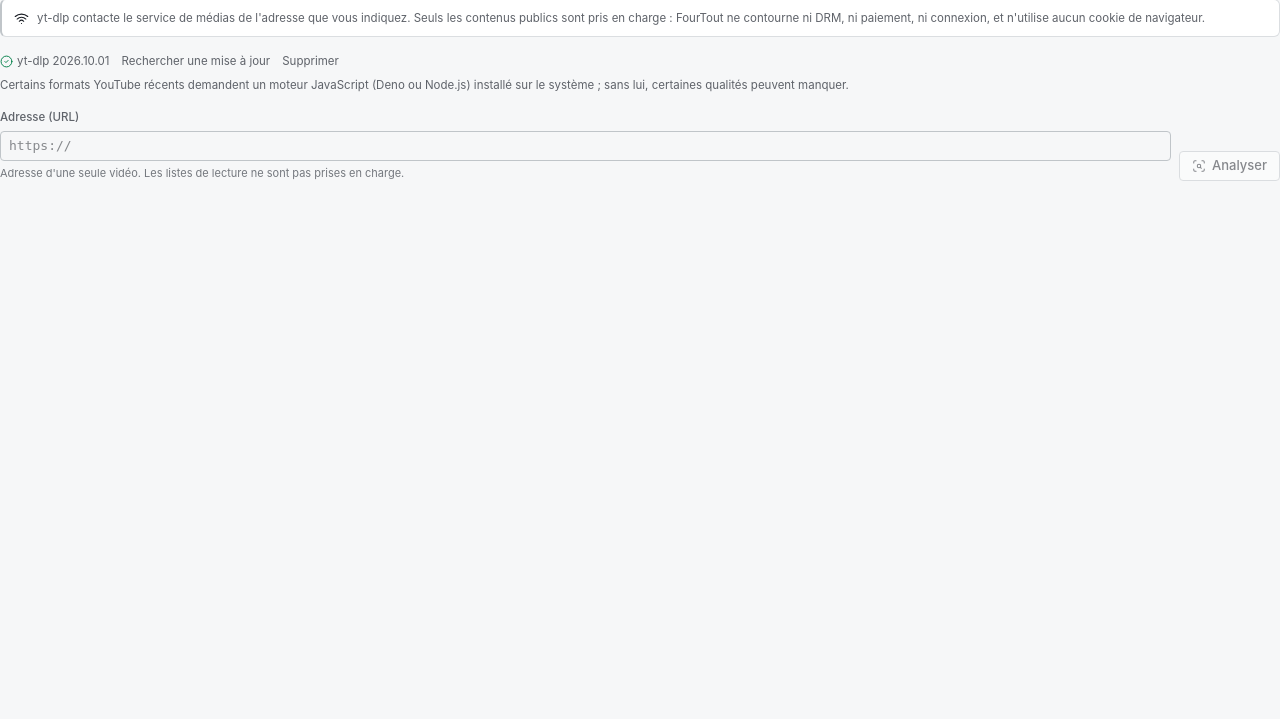
Télécharger un média depuis Internet › analyse, propose les résolutions de la source, et télécharge avec la demande exacte
Expected: the element with test id "ytdlp-ready" is shown, x1=0 y1=53 x2=339 y2=69
Type "https://x.org/v" into the field with placeholder "https://" at x=586, y=146, box x1=0 y1=130 x2=1171 y2=160
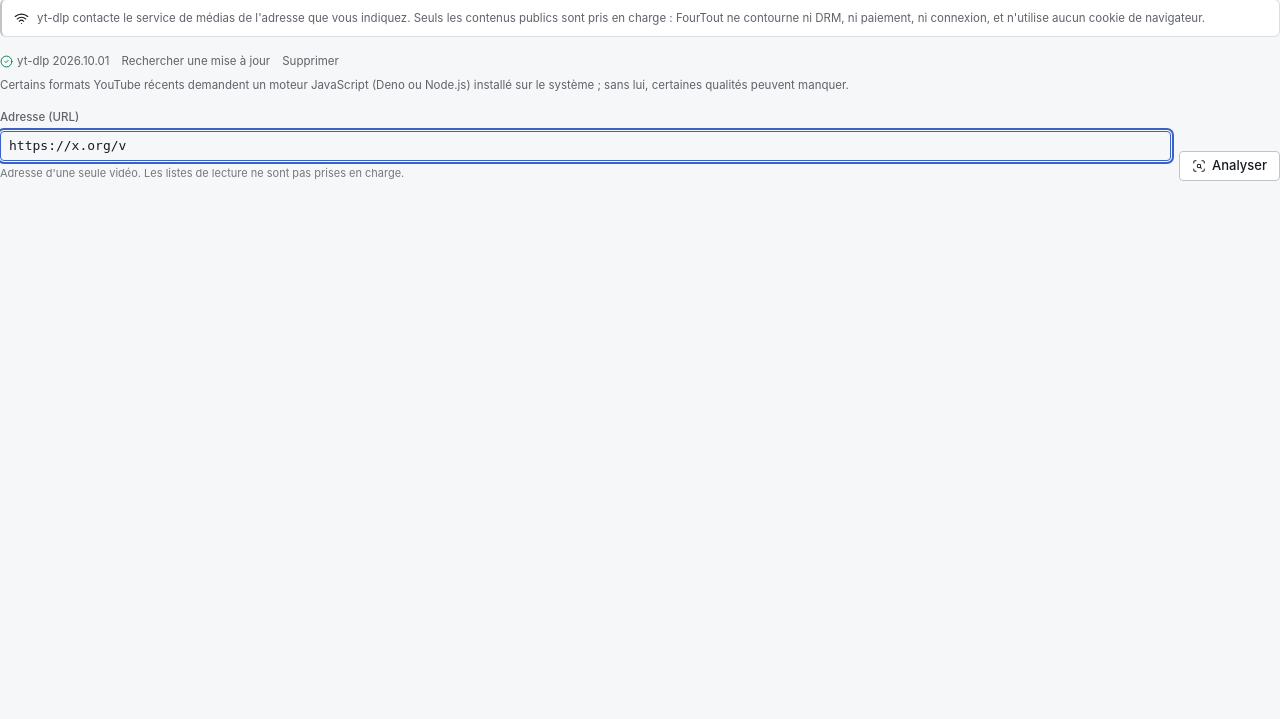
Click the button "Analyser" at x=1230, y=166, box x1=1179 y1=150 x2=1279 y2=180
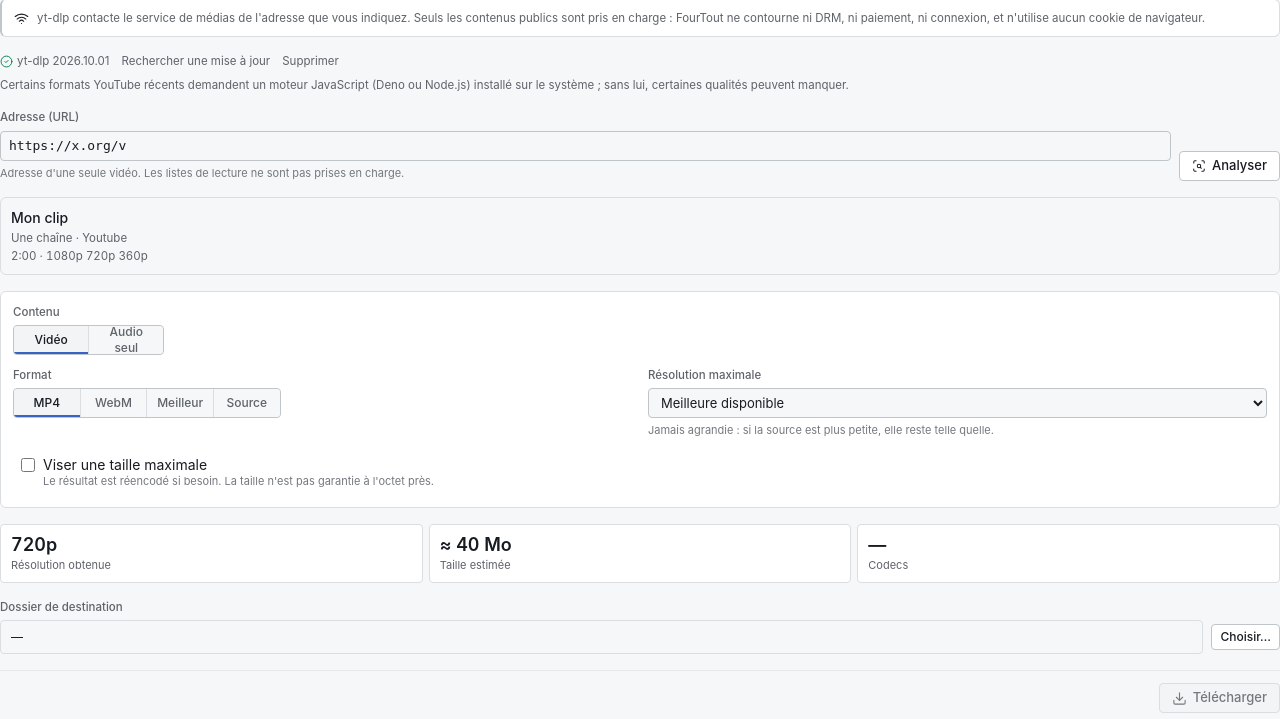
Now the element with test id "media-info" is shown
Select "720p" in the dropdown labelled "Résolution maximale" at x=958, y=403, box x1=648 y1=388 x2=1267 y2=418
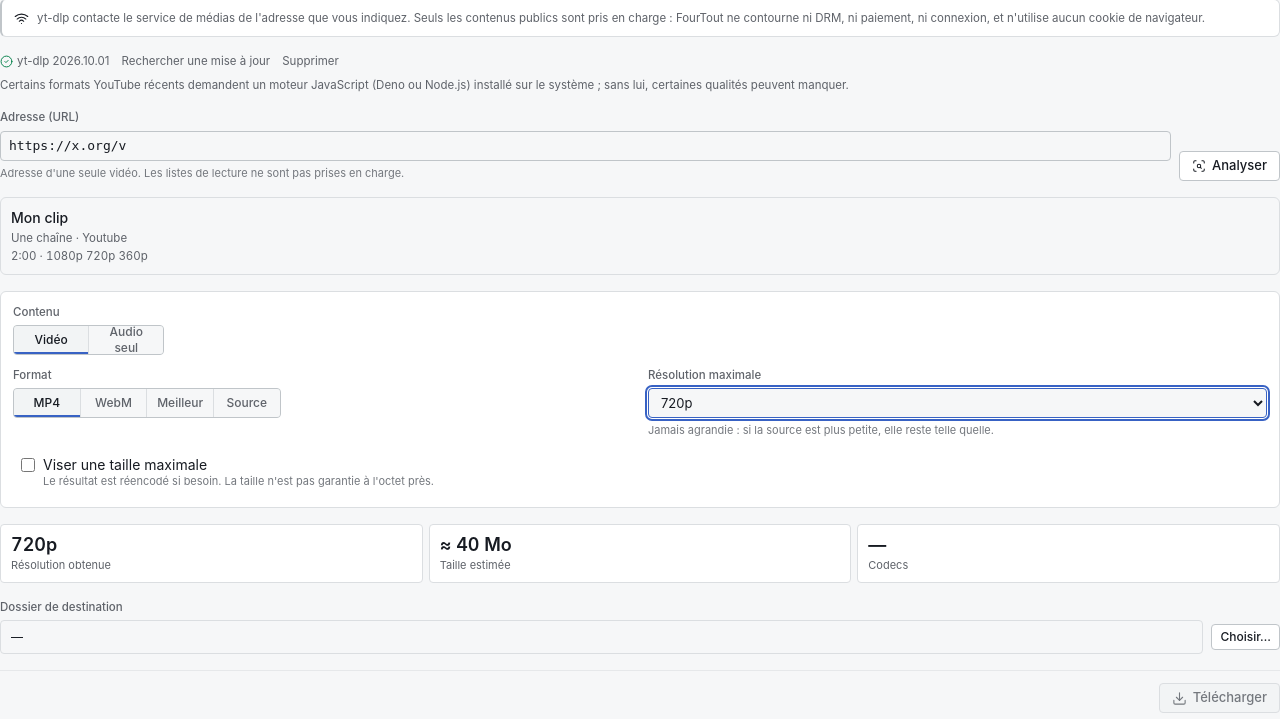
Click the button with aria-label "Choisir le dossier" at x=1246, y=637, box x1=1211 y1=624 x2=1279 y2=650
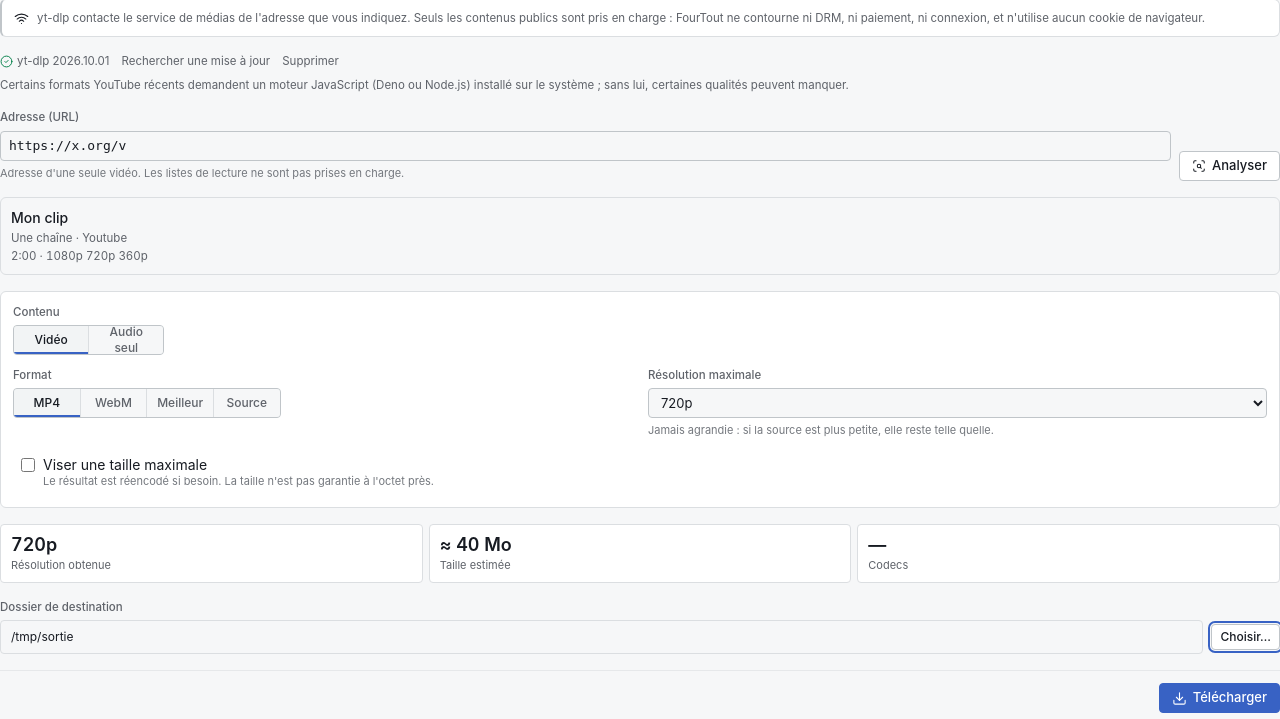
Click the button "Télécharger" at x=1219, y=698, box x1=1159 y1=683 x2=1279 y2=713
(page scrolled)
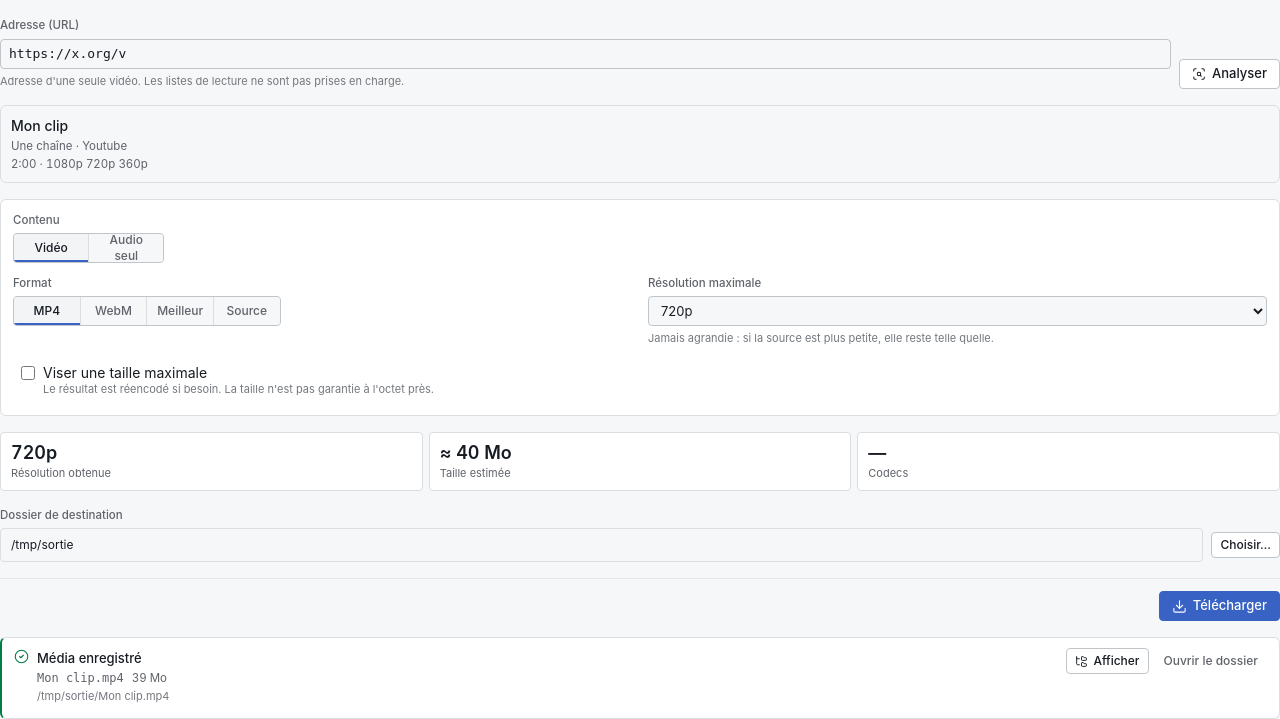
Now the text "/tmp/sortie" is shown, box x1=0 y1=528 x2=1203 y2=562
Now the text "Mon clip" is shown, box x1=11 y1=116 x2=68 y2=134
Now the text "Média enregistré" is shown, box x1=37 y1=650 x2=142 y2=666
